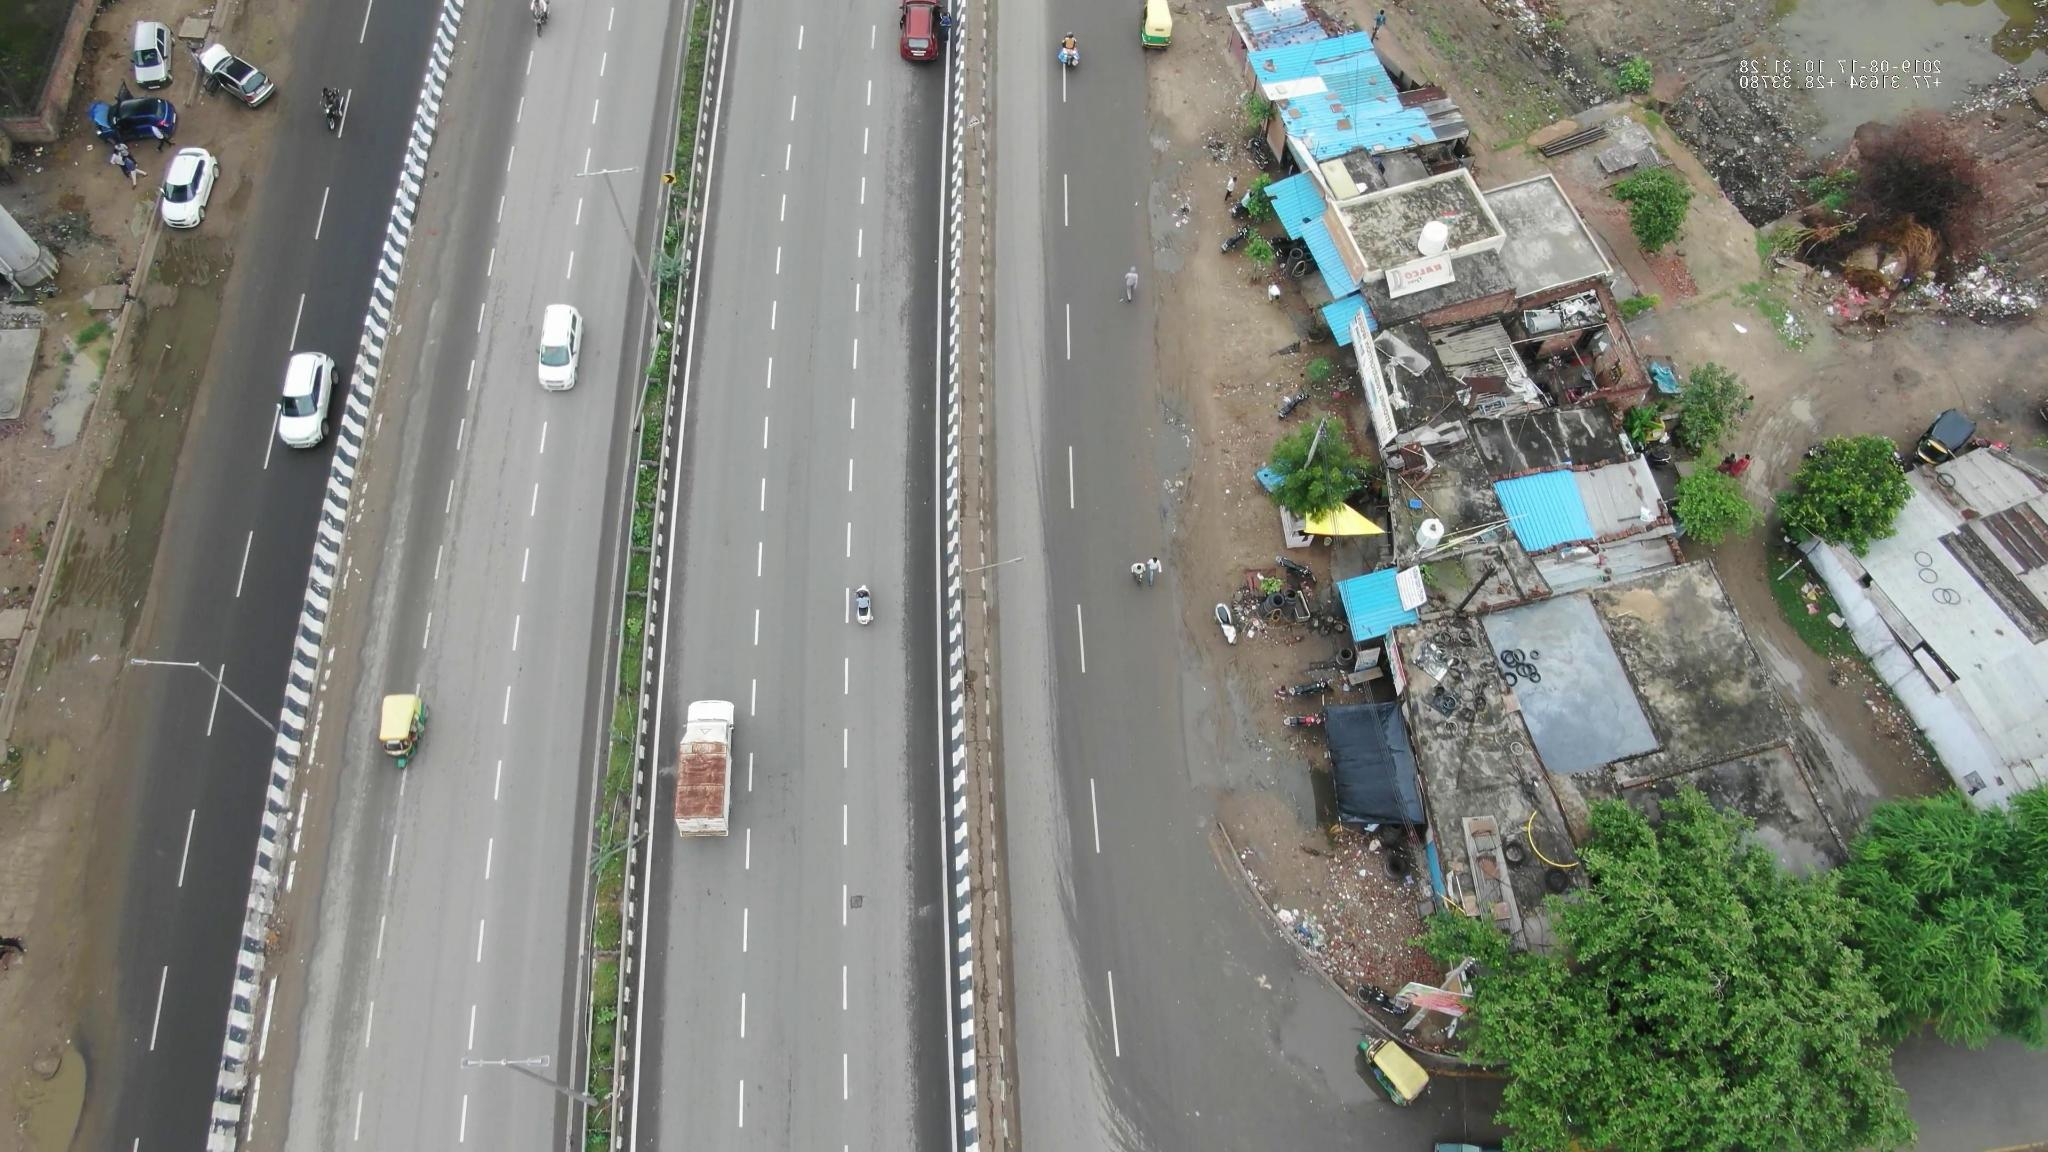Waterlogging: (91, 267, 231, 616), (1169, 623, 1255, 814), (21, 1014, 103, 1152)
